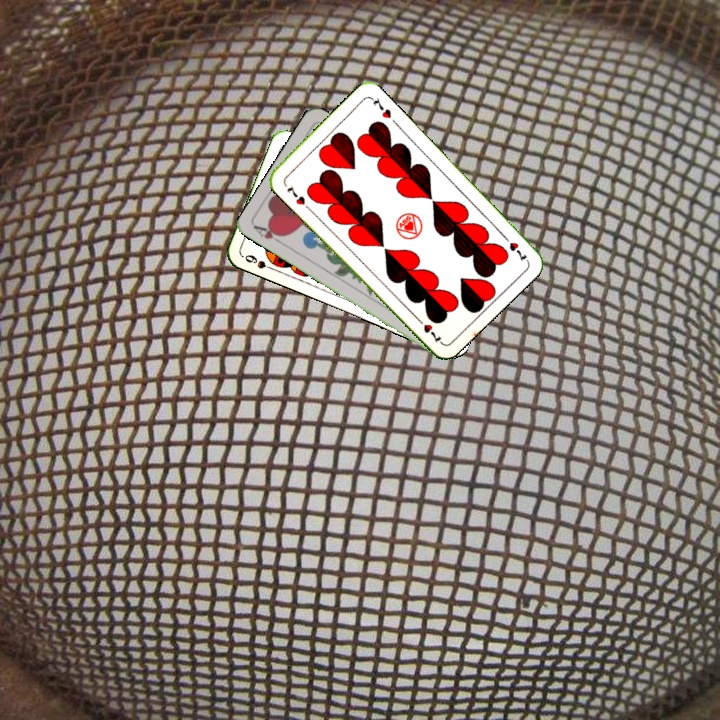H7: (498, 230, 530, 264), (283, 181, 308, 207)
HA: (250, 221, 287, 248)
S9: (240, 250, 279, 273)
